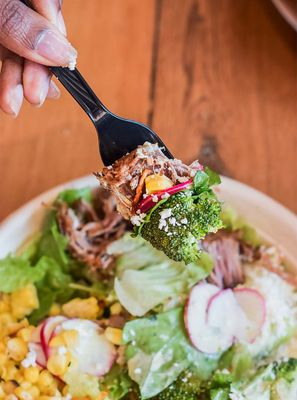burger: (46, 66, 174, 167)
curry: (1, 205, 119, 326)
